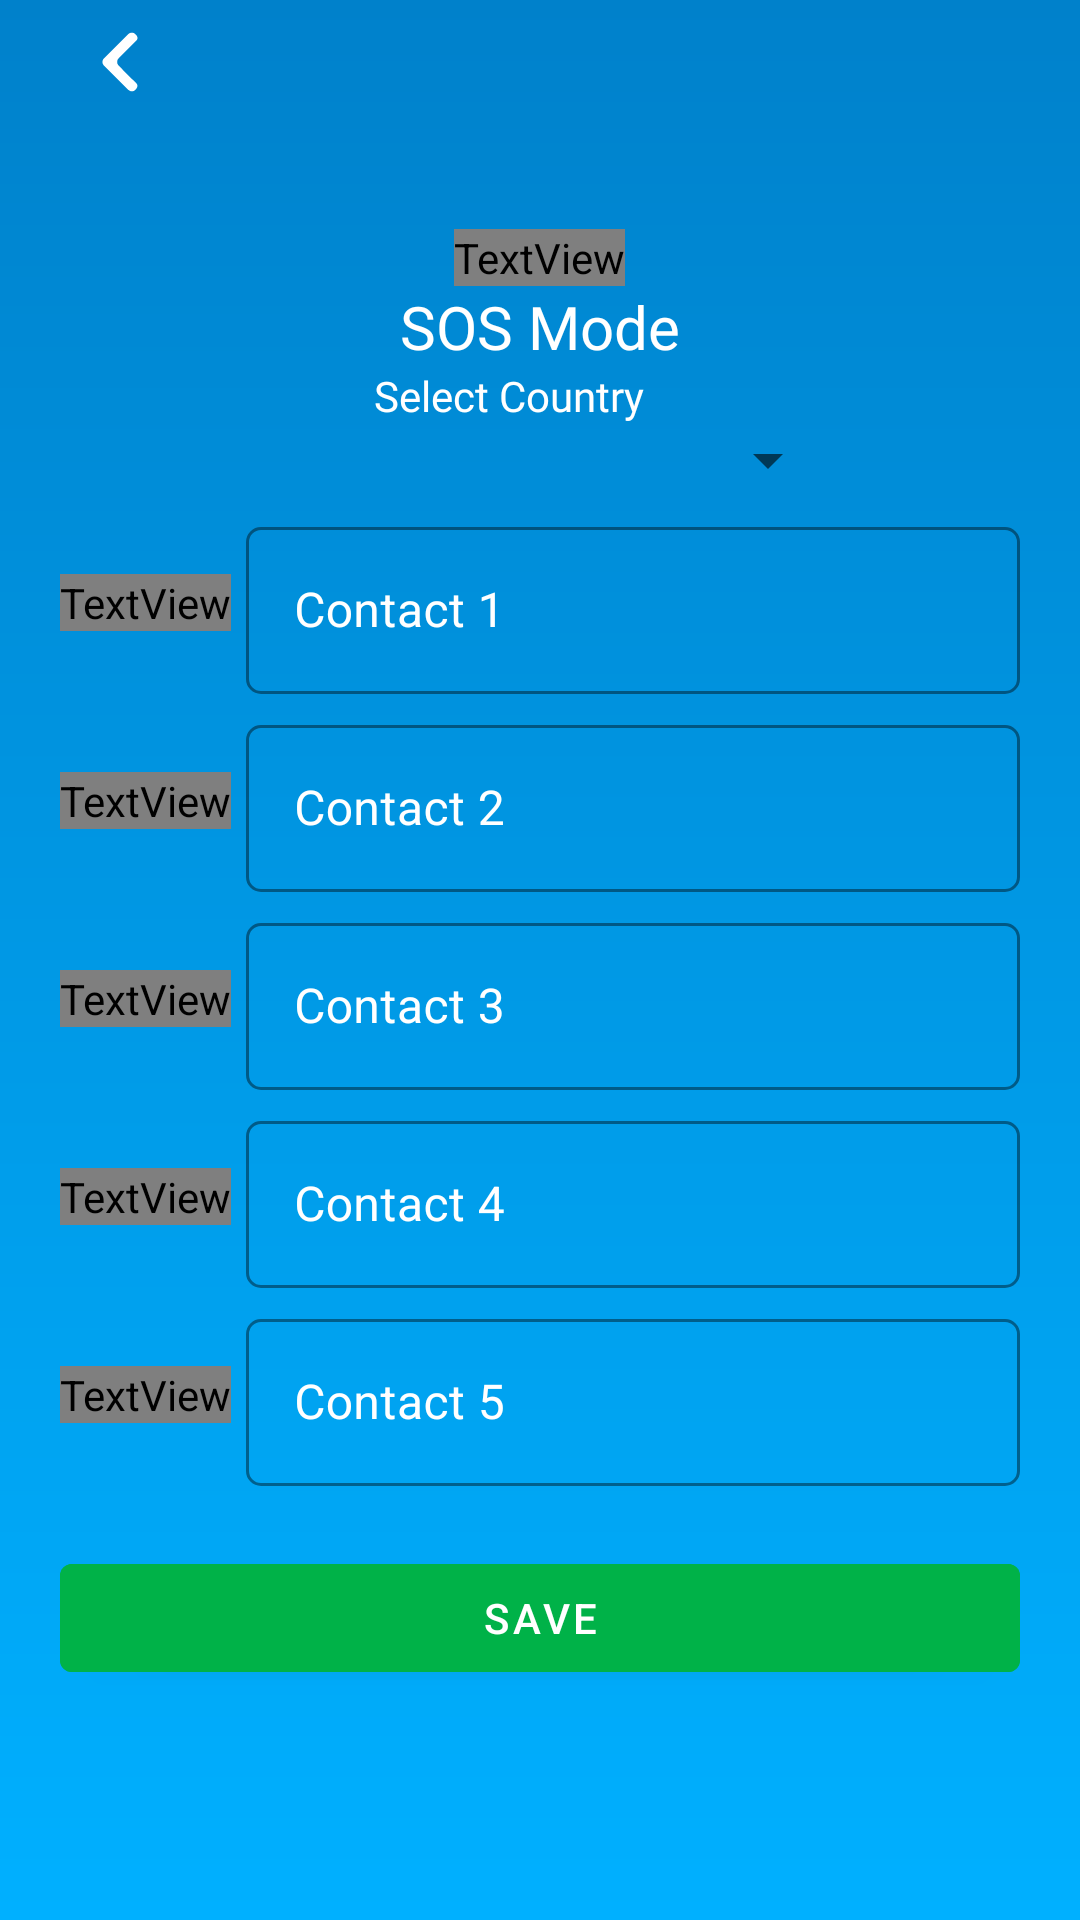

Screen size 1080*1920. Icon name, then its center in pixels as point (x, y):
back: point (120, 62)
